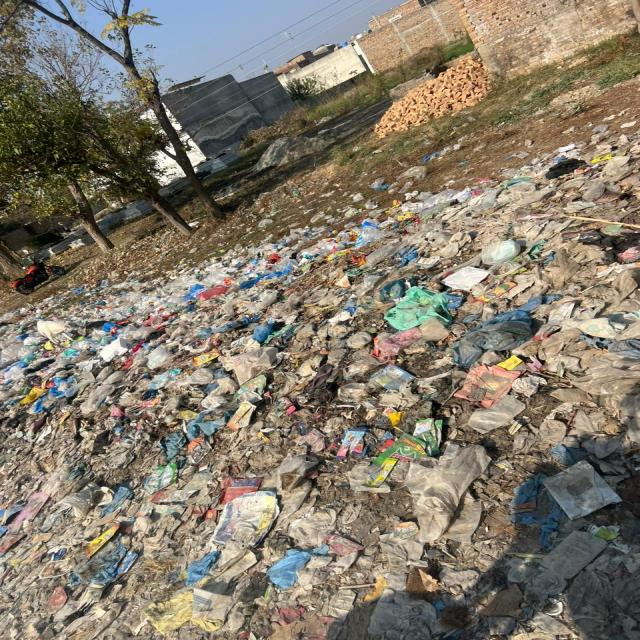garbage: (1, 296, 640, 639), (80, 141, 639, 290)
